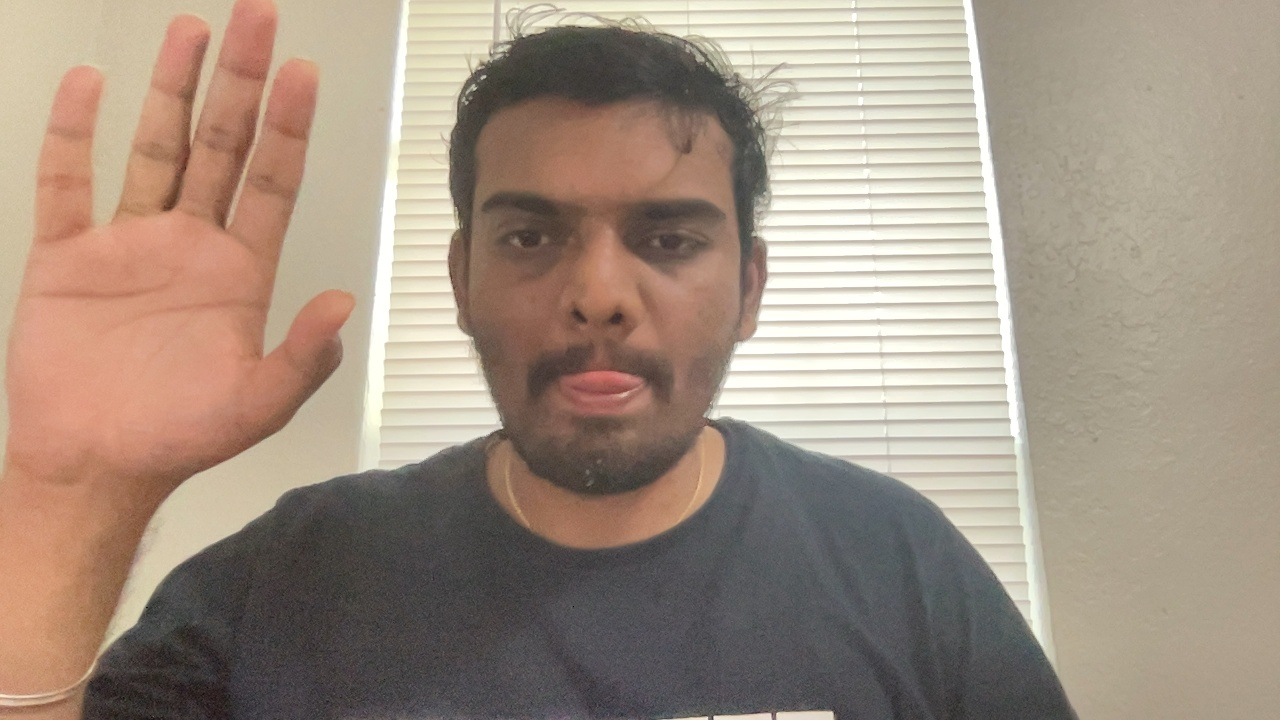hello: (5, 6, 358, 488)
